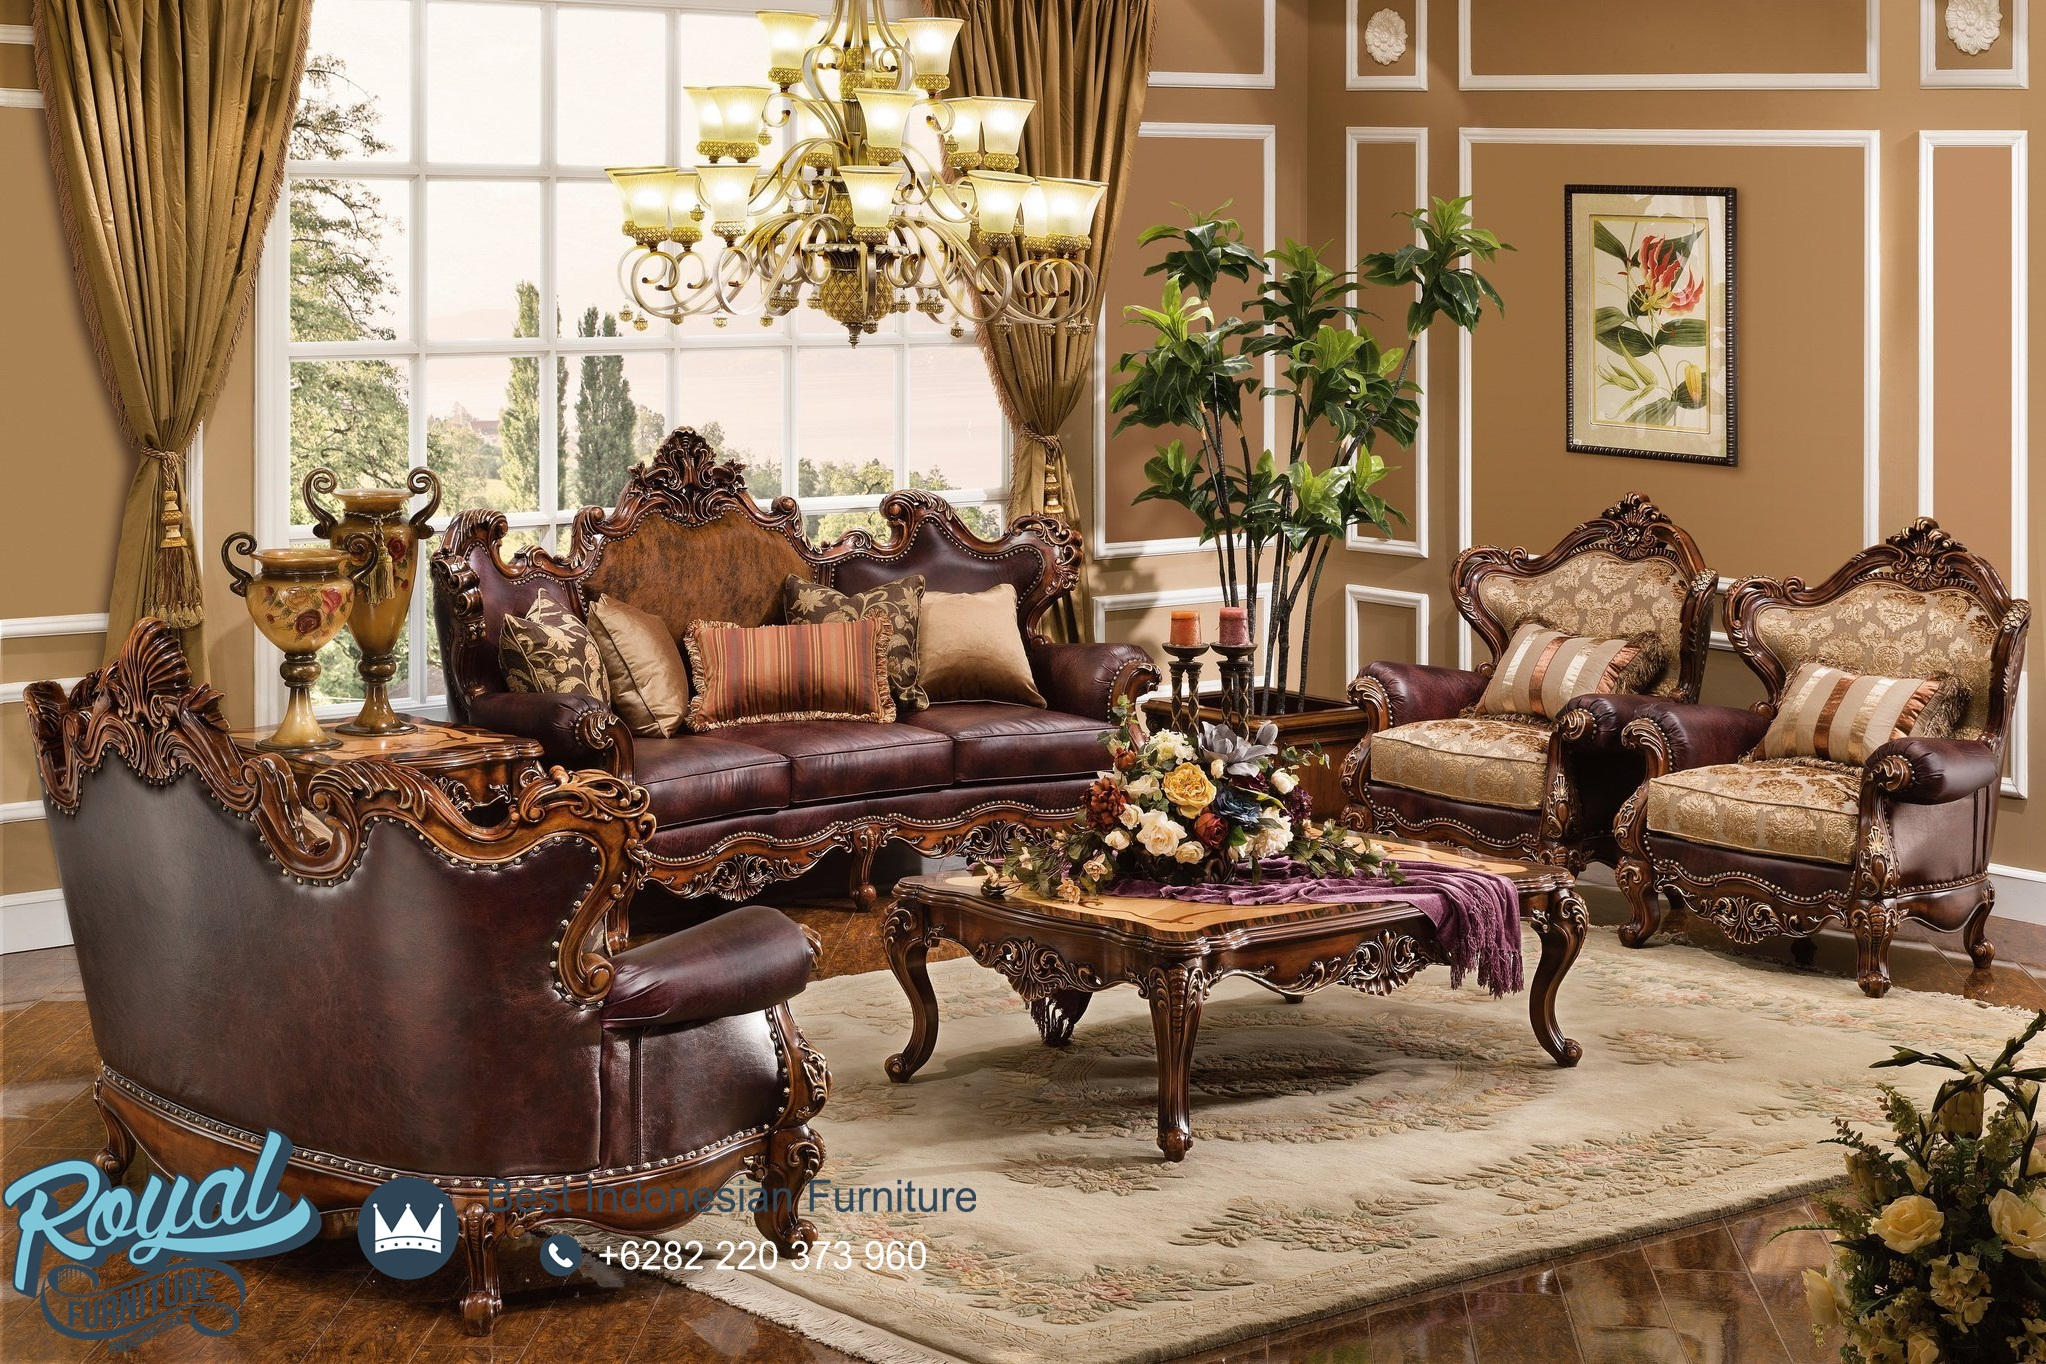Carving Chair: (30, 652, 863, 1297), (1381, 502, 2044, 958), (448, 461, 1171, 817)
Carving Table: (884, 822, 1608, 1133)
